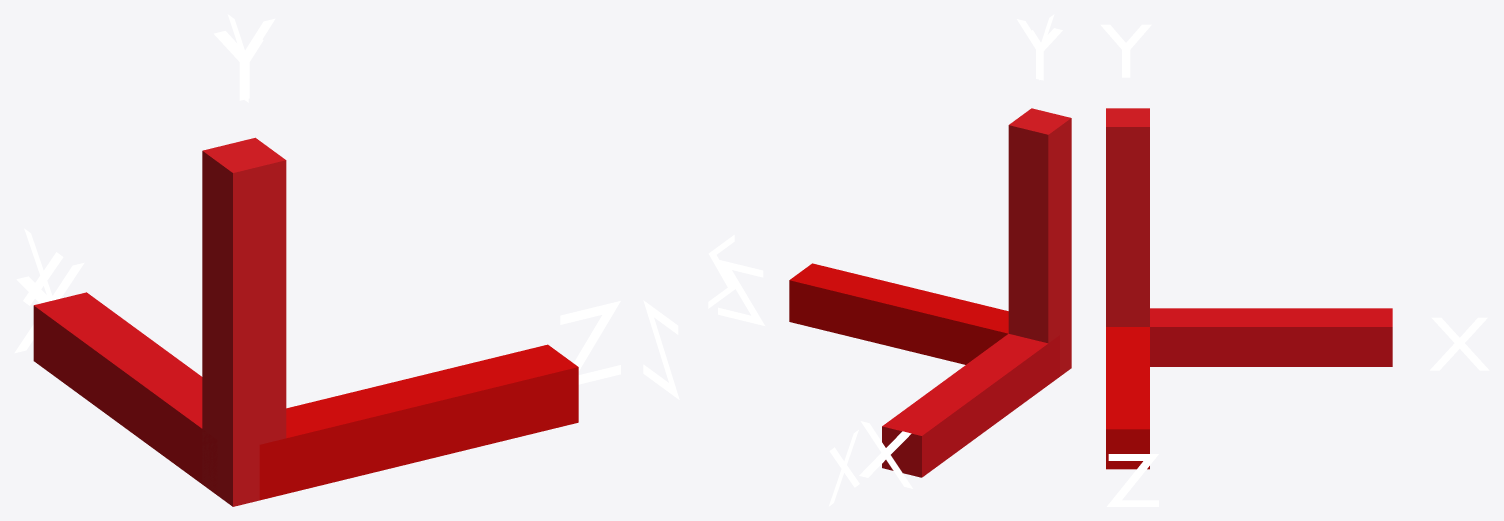
The model's file is godot_source_bk_UI_Resources_Shared_components_3d_indicator.glb.
3 renders of one model, left to right at view 1: azimuth 30°, elevation 25°; view 2: azimuth 150°, elevation 25°; view 3: azimuth 270°, elevation 25°, orthographic. The views are drawn at different scales.
Visible parts, largest first — view 1: Cube.002, Cube, Cube.001, Text.001, Text.002, Text, Text.004, Text.003; view 2: Cube.002, Cube, Cube.001, Text.001, Text, Text.003, Text.002, Text.004; view 3: Cube.001, Cube.002, Cube, Text.002, Text.003, Text.005.
Boxes of the visible parts, box(x1,y1,x2,y2) form: Cube.002: box(202, 137, 286, 506); Cube: box(259, 344, 578, 500); Cube.001: box(33, 292, 217, 494); Text.001: box(560, 301, 620, 384); Text.002: box(643, 300, 679, 399); Text: box(14, 262, 84, 353); Text.004: box(214, 18, 275, 100); Text.003: box(23, 228, 63, 305); Cube.002: box(1008, 108, 1071, 376); Cube: box(789, 263, 1008, 364); Cube.001: box(882, 333, 1059, 477); Text.001: box(718, 259, 764, 325); Text: box(859, 421, 912, 488); Text.003: box(829, 430, 859, 506); Text.002: box(708, 235, 735, 308); Text.004: box(1017, 19, 1062, 80); Cube.001: box(1150, 308, 1392, 366); Cube.002: box(1106, 108, 1149, 326); Cube: box(1106, 327, 1149, 469); Text.002: box(1107, 454, 1158, 506); Text.003: box(1430, 317, 1489, 370); Text.005: box(1100, 24, 1151, 77).
Size of the model in its own units: 16.98 by 16.77 by 17.66.
